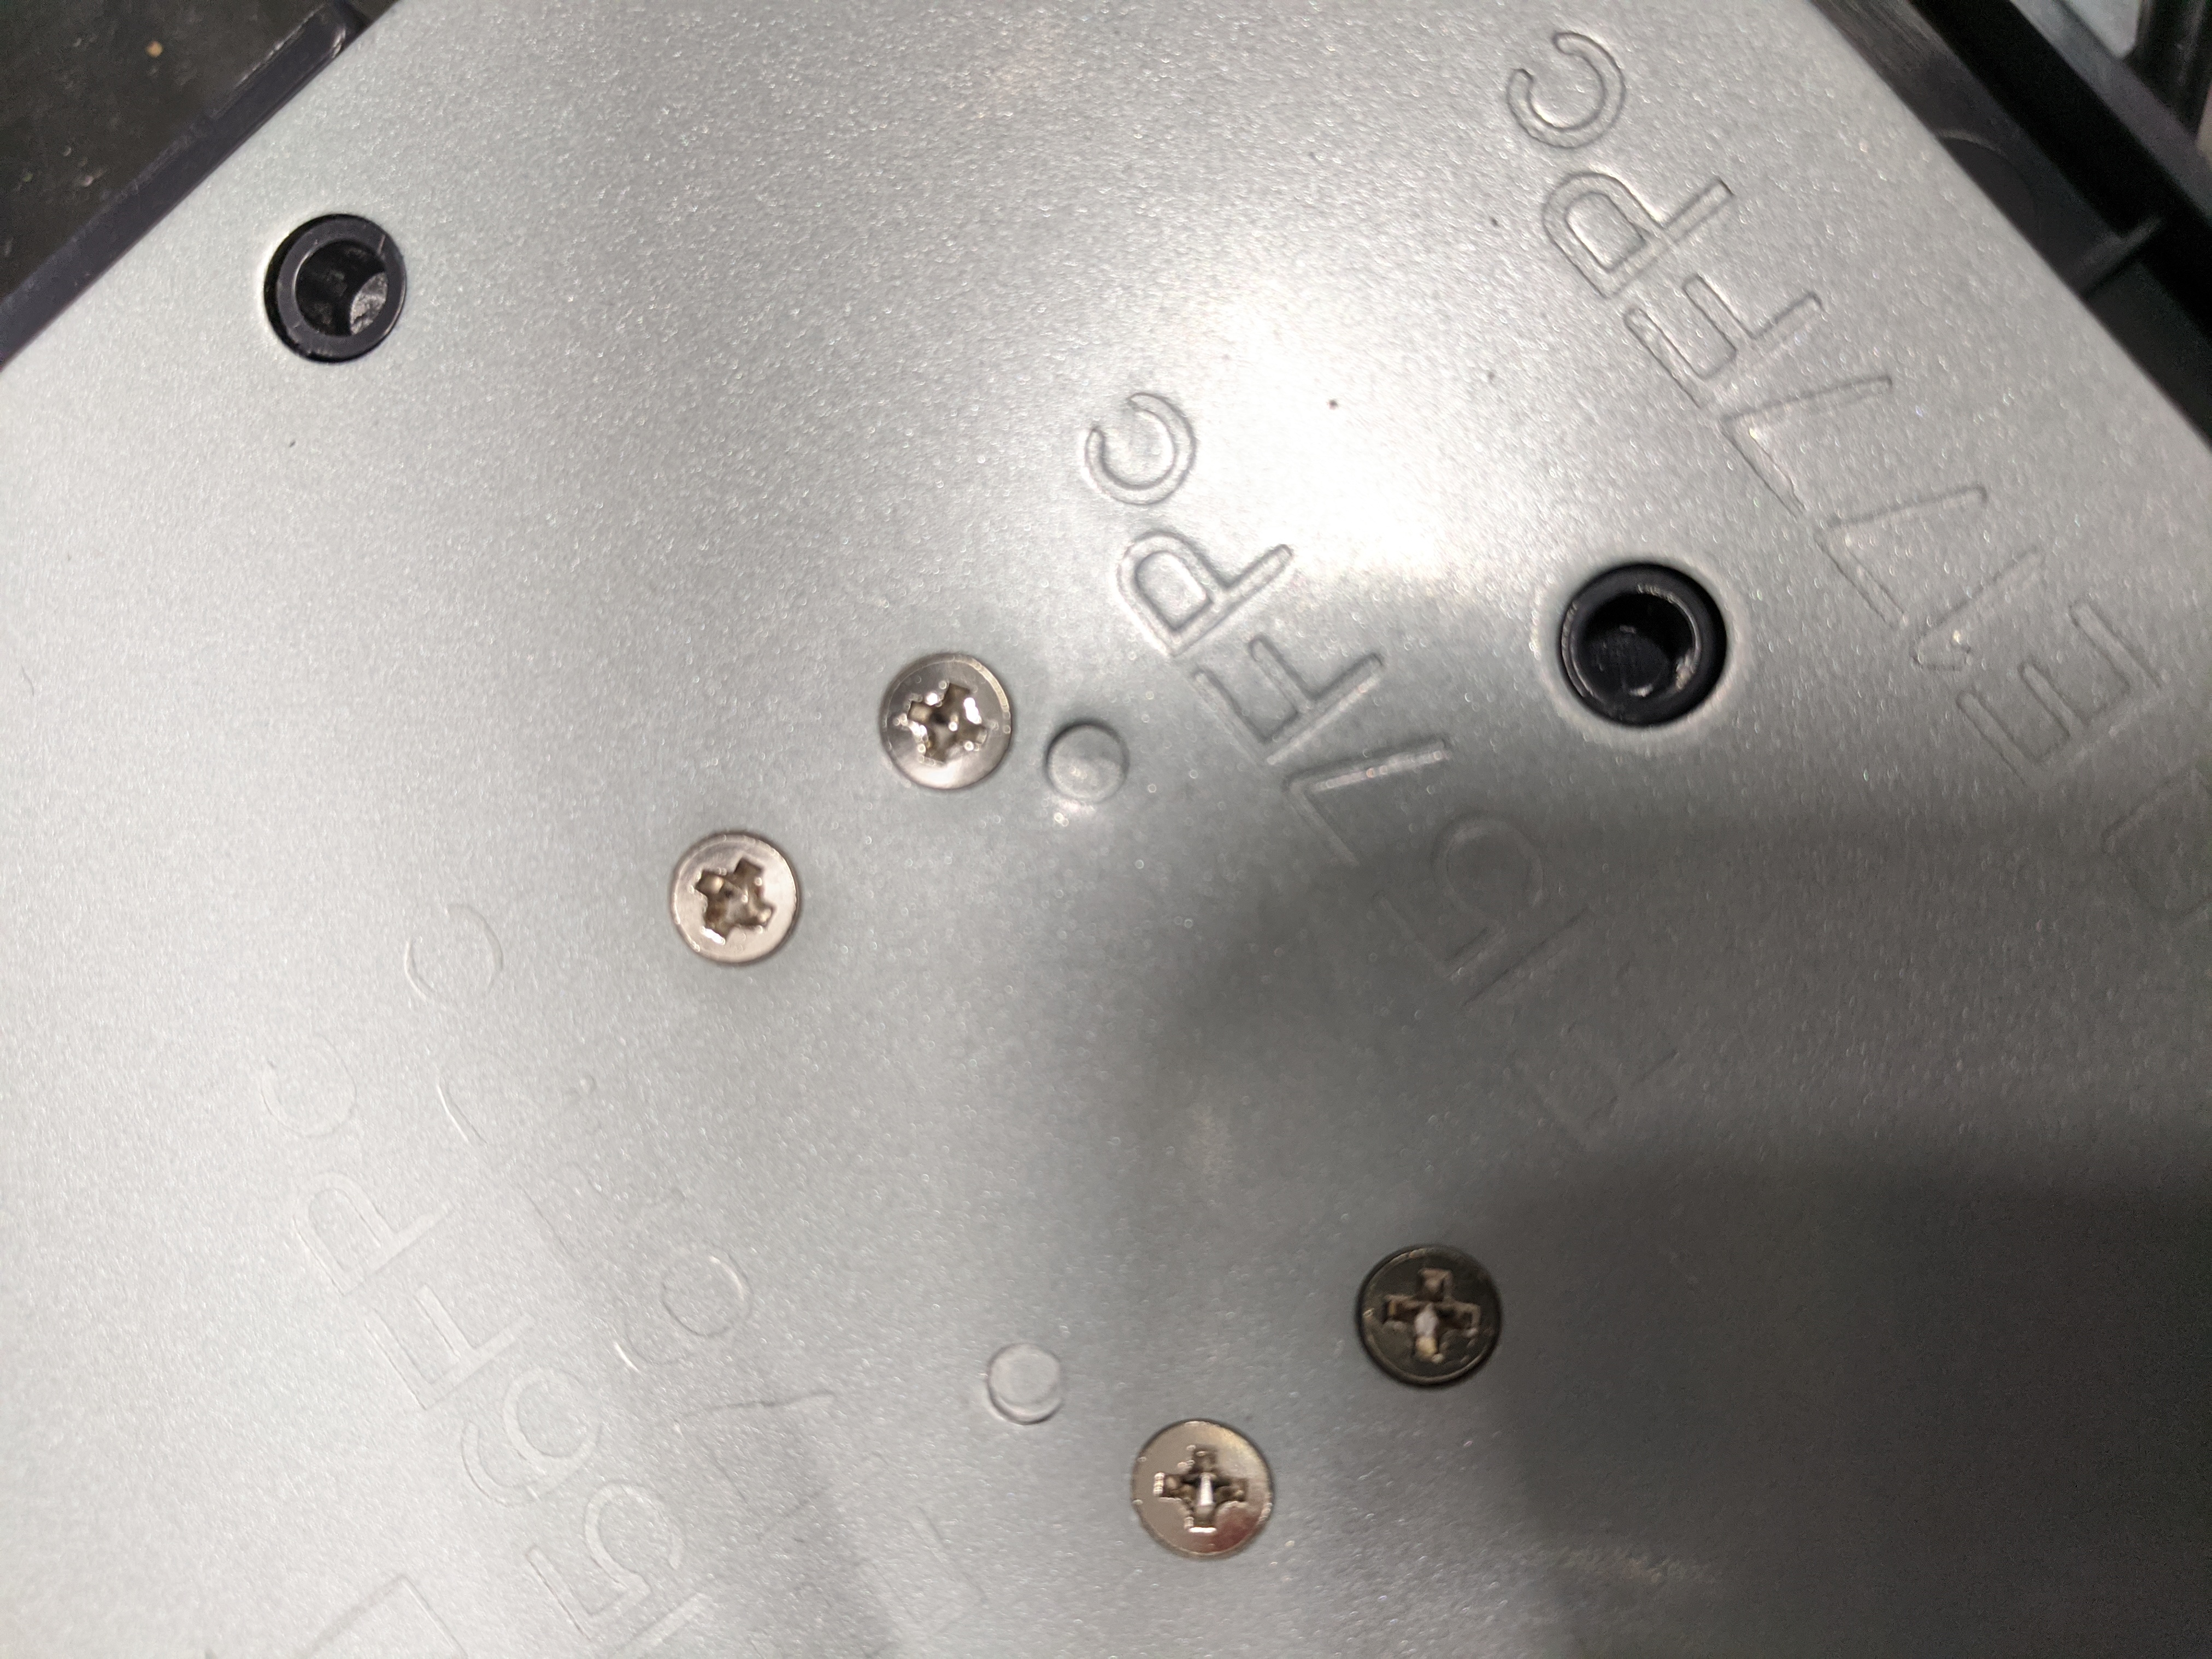cross_recessed_screw: (1109, 1392, 1287, 1574), (860, 638, 1035, 789), (657, 810, 815, 971), (1352, 1222, 1508, 1384)
